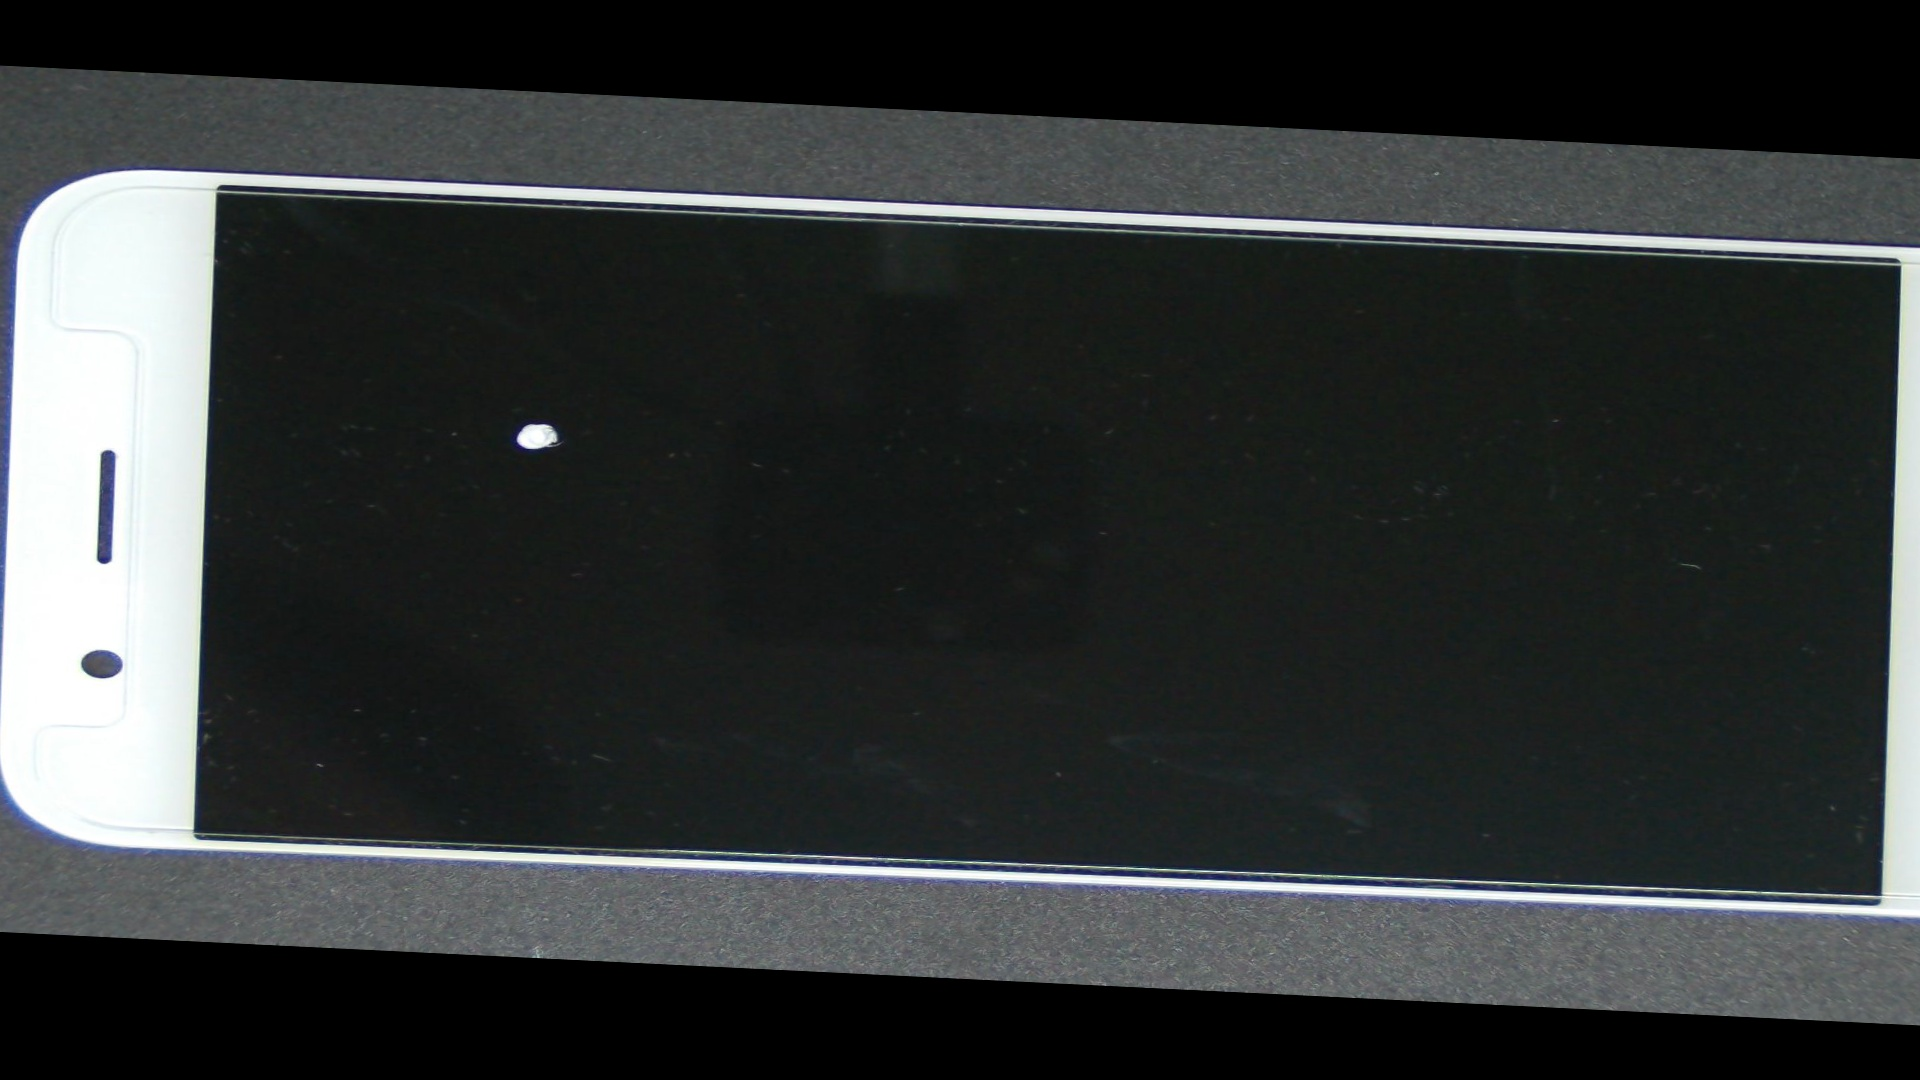oil: (219, 241, 866, 603)
